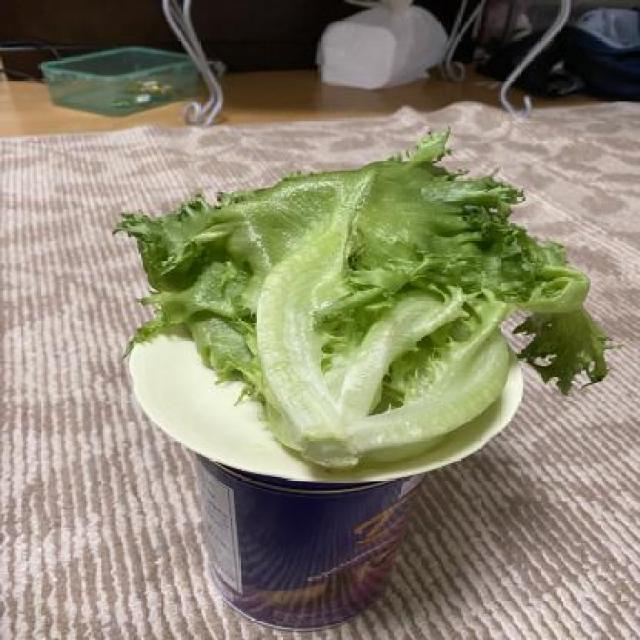Lettuce head: (110, 119, 620, 477)
